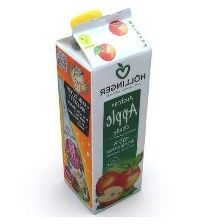carton: (44, 5, 156, 215)
